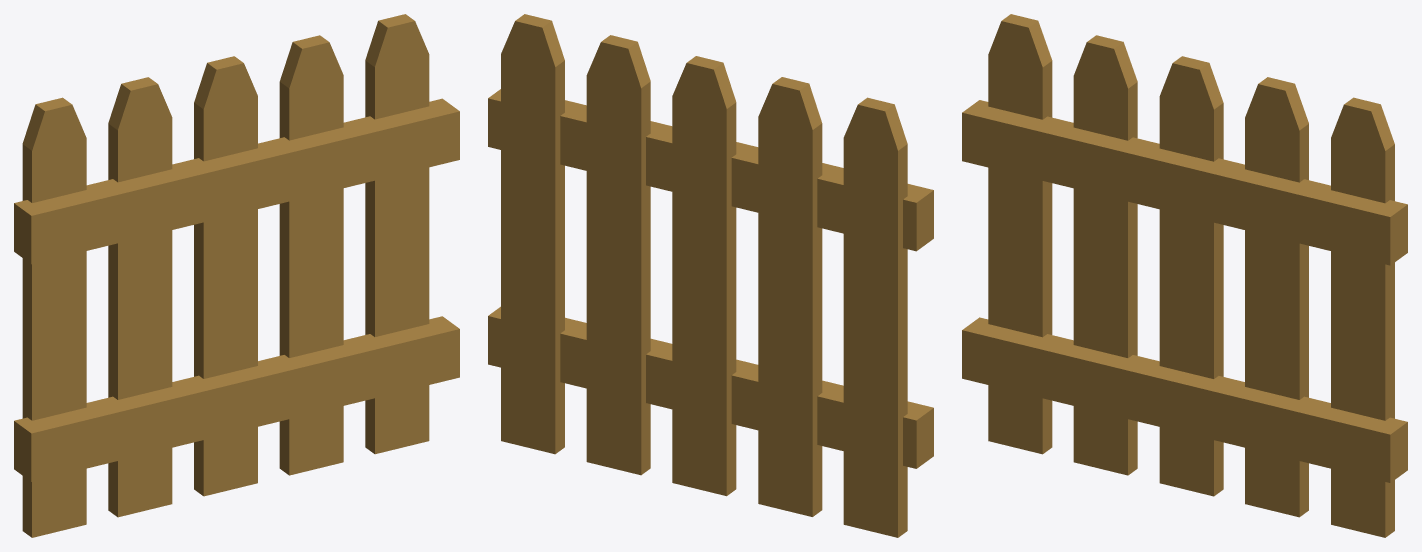
Rendered from WoodFenceSmall.fbx.
3 renders of one model, left to right at view 1: azimuth 30°, elevation 25°; view 2: azimuth 150°, elevation 25°; view 3: azimuth 330°, elevation 25°, orthographic.
Visible parts, largest first — view 1: WoodFenceSmall; view 2: WoodFenceSmall; view 3: WoodFenceSmall.
Part boxes in pixels (box(x1,y1,x2,y2)): WoodFenceSmall: box(14, 14, 459, 537); WoodFenceSmall: box(488, 14, 933, 537); WoodFenceSmall: box(962, 14, 1407, 537).
Bounding box in the file's own units: 0.8655 × 0.8178 × 0.0785.
